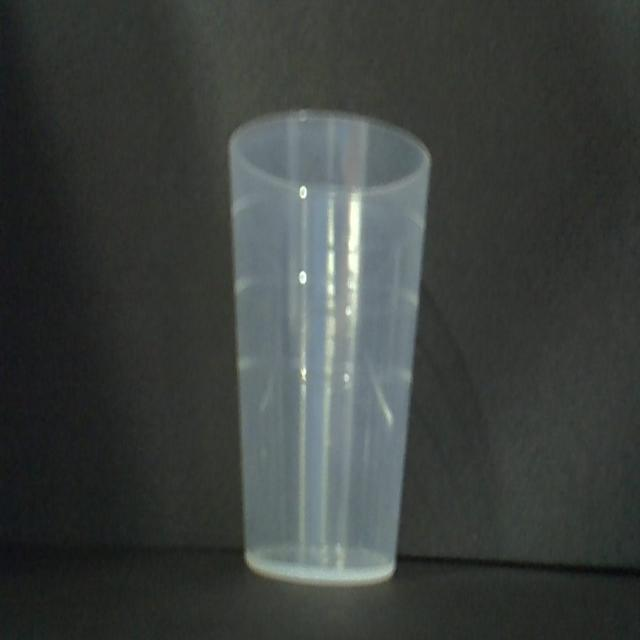cup: (224, 112, 428, 590)
